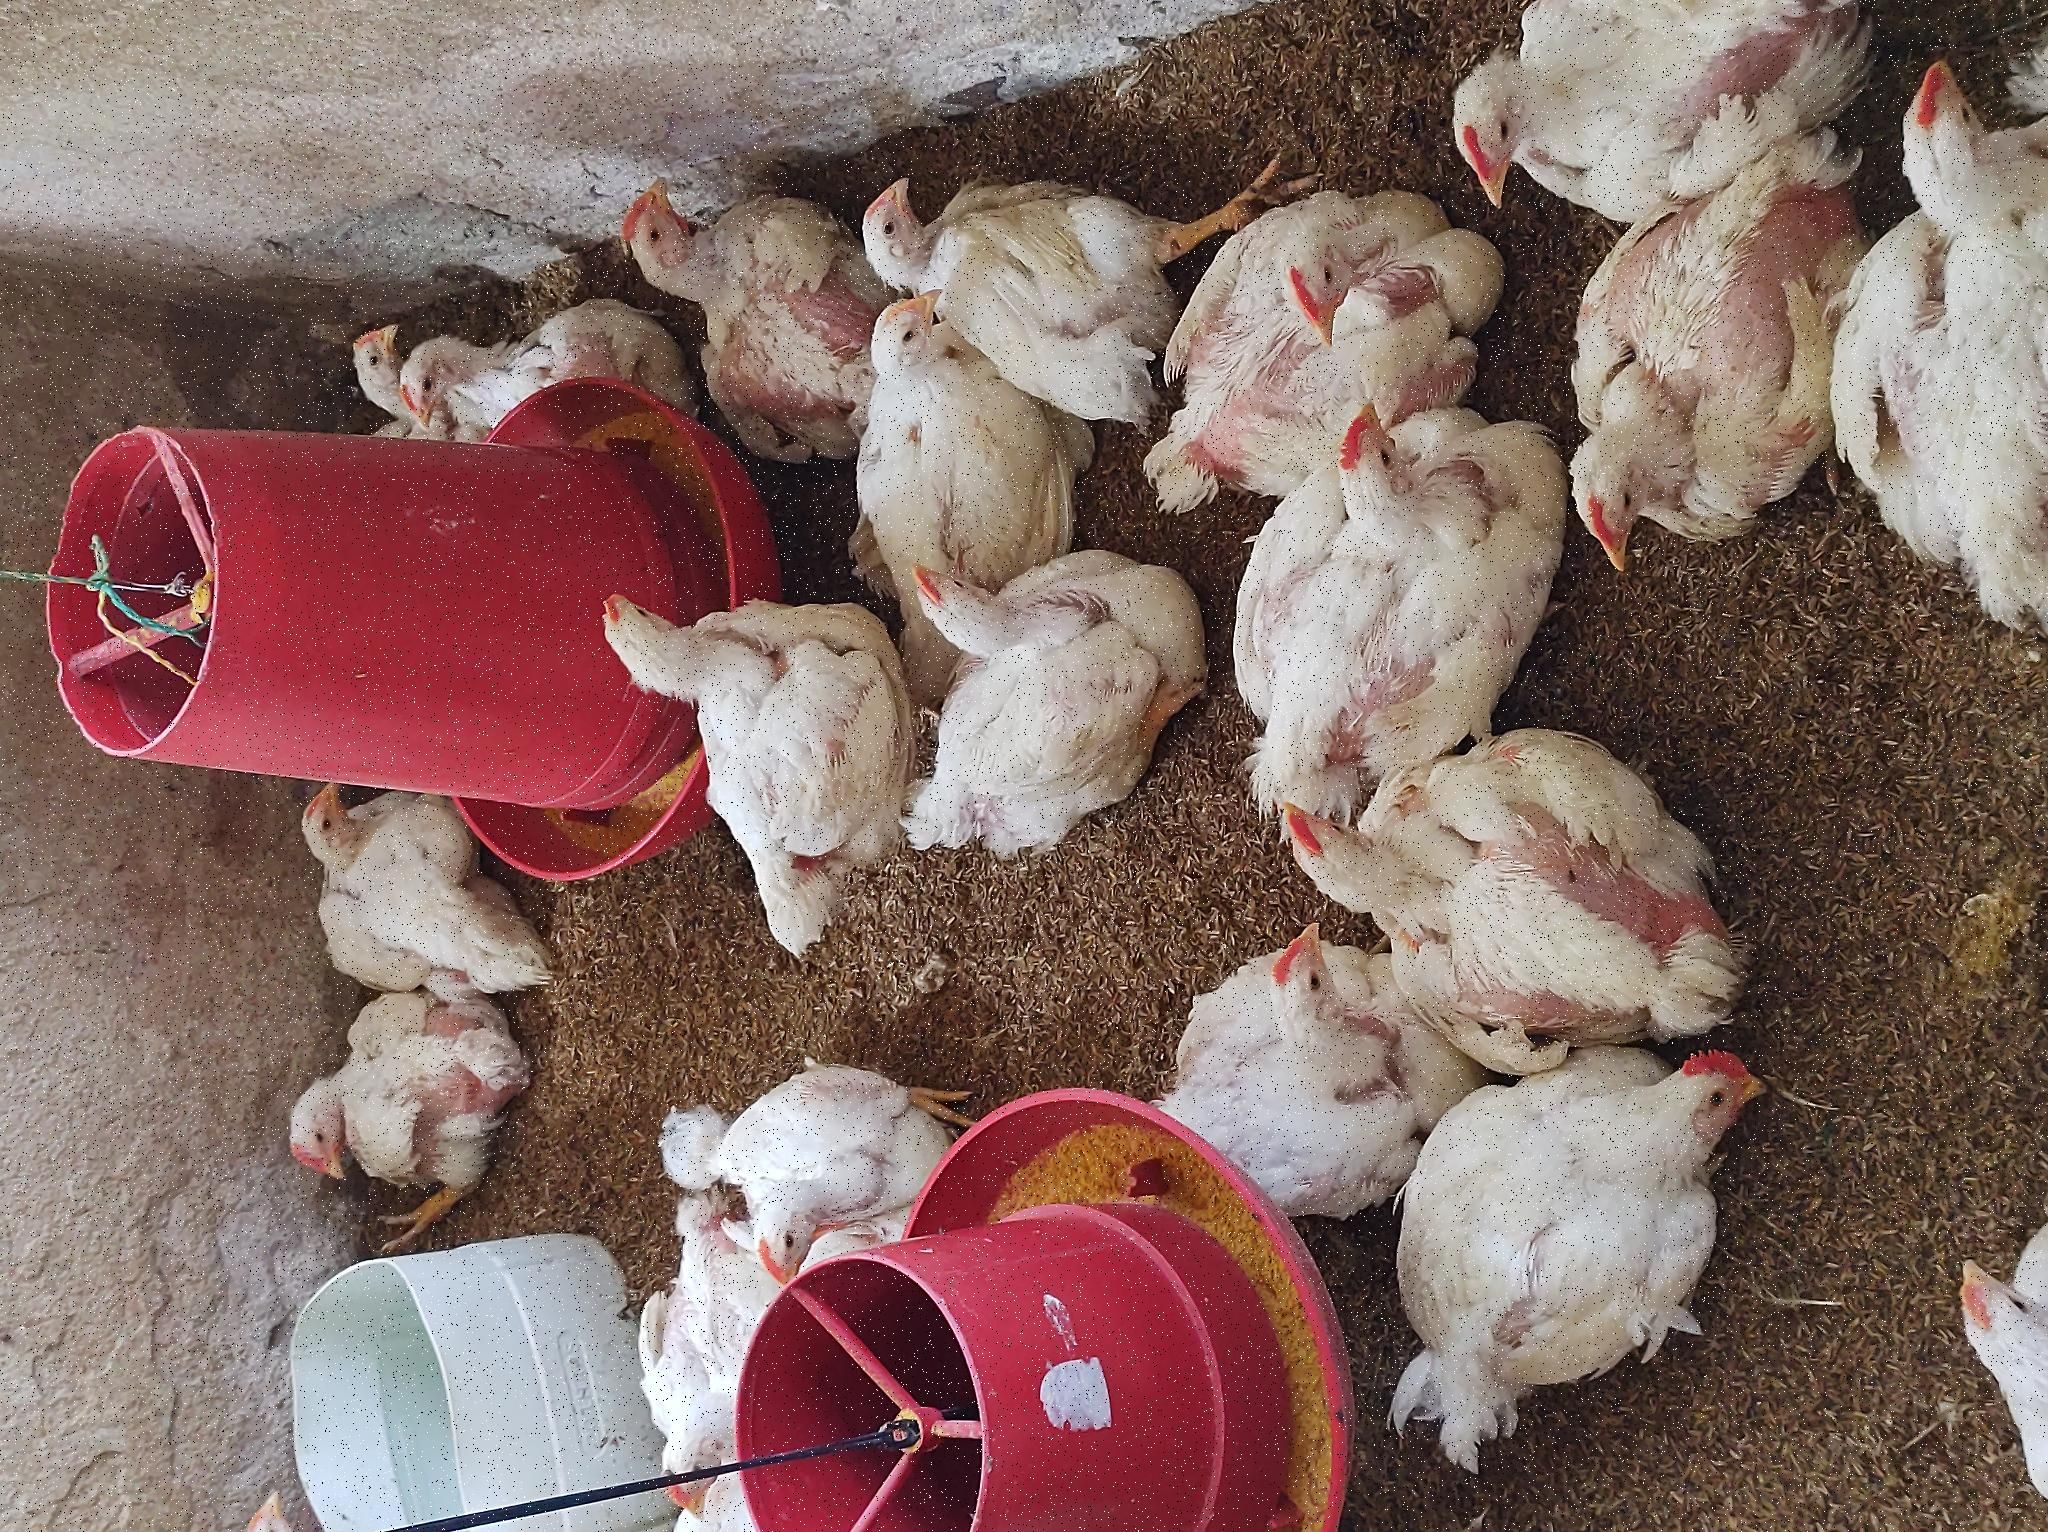Pollos: (722, 1209, 1129, 1532), (615, 867, 1004, 1183), (637, 594, 1009, 855), (1096, 1123, 1359, 1487), (470, 1276, 788, 1532), (1063, 599, 1379, 855), (923, 837, 1256, 1070), (256, 661, 492, 970), (524, 288, 808, 544), (296, 248, 533, 544), (327, 1143, 602, 1389), (84, 1366, 487, 1532), (2, 579, 262, 805), (1063, 386, 1261, 665), (1199, 837, 1382, 1128), (1051, 328, 1269, 454), (1319, 1415, 1532, 1532)
